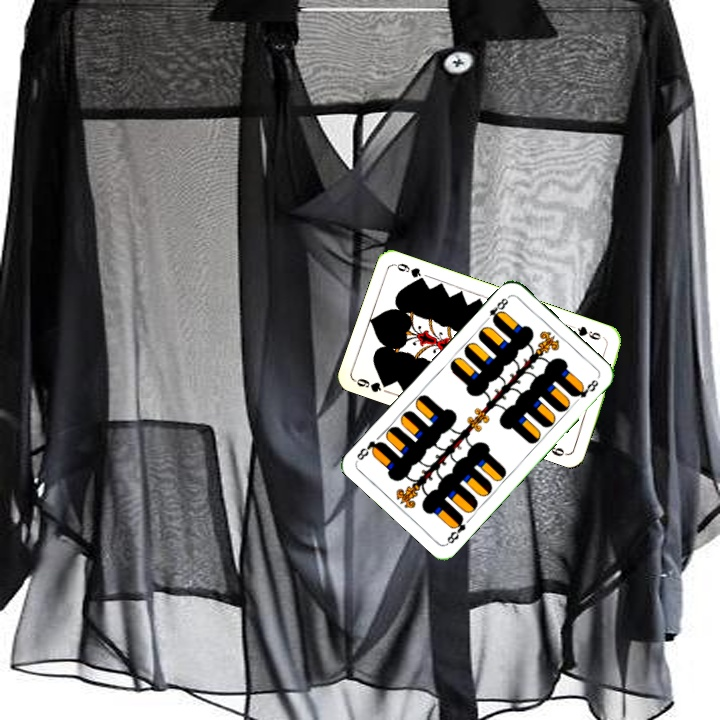E8: (480, 292, 512, 326), (443, 512, 469, 547)
G9: (351, 374, 393, 395), (567, 322, 604, 342)
